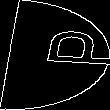P_W: (5, 34, 105, 76)
